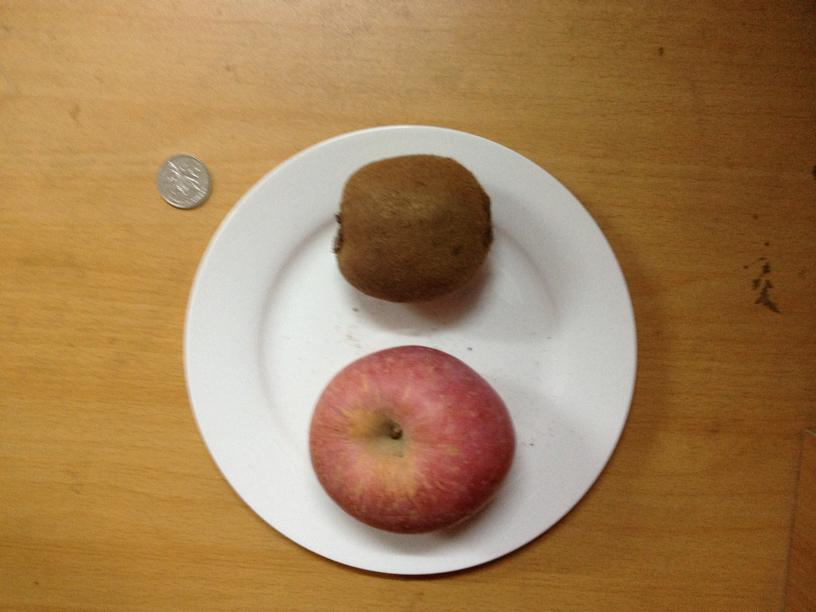apple: (311, 342, 512, 533)
coin: (156, 154, 211, 208)
qiwi: (328, 153, 490, 295)
